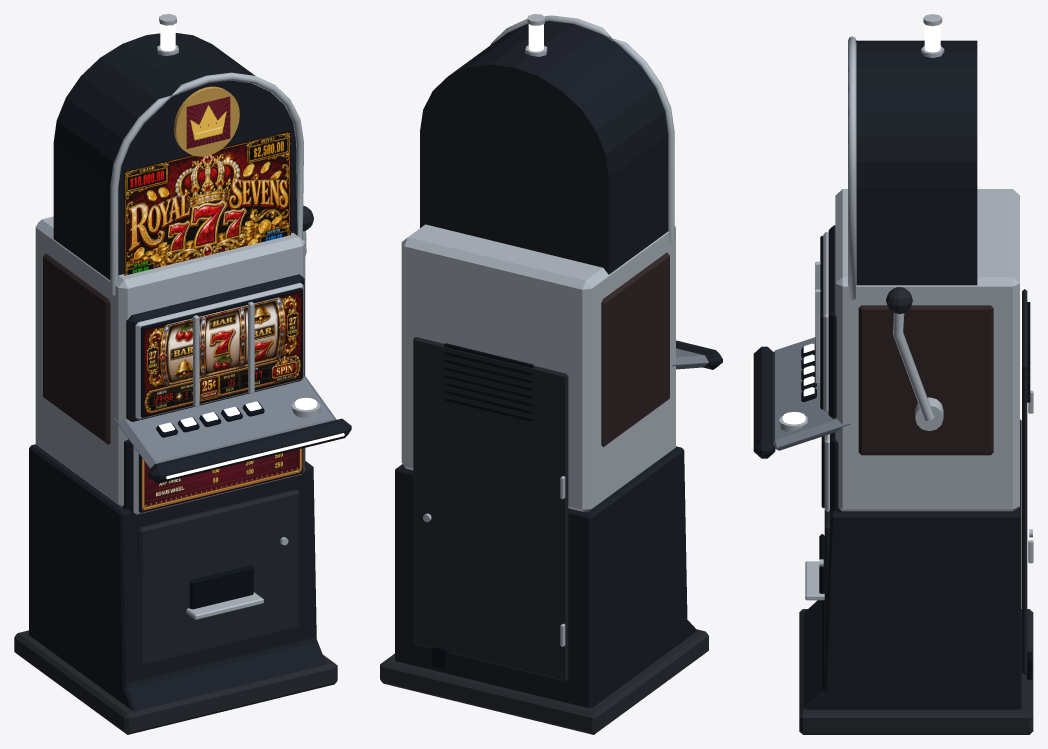
Rendered from slot_classic.glb.
The picture shows the model from 3 angles, left to right: view 1: azimuth 30°, elevation 25°; view 2: azimuth 150°, elevation 25°; view 3: azimuth 270°, elevation 25°; orthographic projection. The views are drawn at different scales.
Parts seen in each view (by area): view 1: ClosedCabinet, Hardware, Displays, PrintedGlass, LightGuides; view 2: ClosedCabinet, Hardware; view 3: ClosedCabinet, Hardware, LightGuides.
Part boxes in pixels (<box>): ClosedCabinet: <box>14,33,351,734</box>; Hardware: <box>35,14,336,619</box>; Displays: <box>124,130,301,416</box>; PrintedGlass: <box>141,96,302,511</box>; LightGuides: <box>159,24,344,479</box>; ClosedCabinet: <box>380,21,722,734</box>; Hardware: <box>401,14,708,646</box>; ClosedCabinet: <box>753,40,1033,734</box>; Hardware: <box>773,14,1033,600</box>; LightGuides: <box>751,24,940,449</box>.
Bounding box in the file's own units: 0.847 × 2.24 × 0.856.
Materials: 5 (2 with a texture image).
